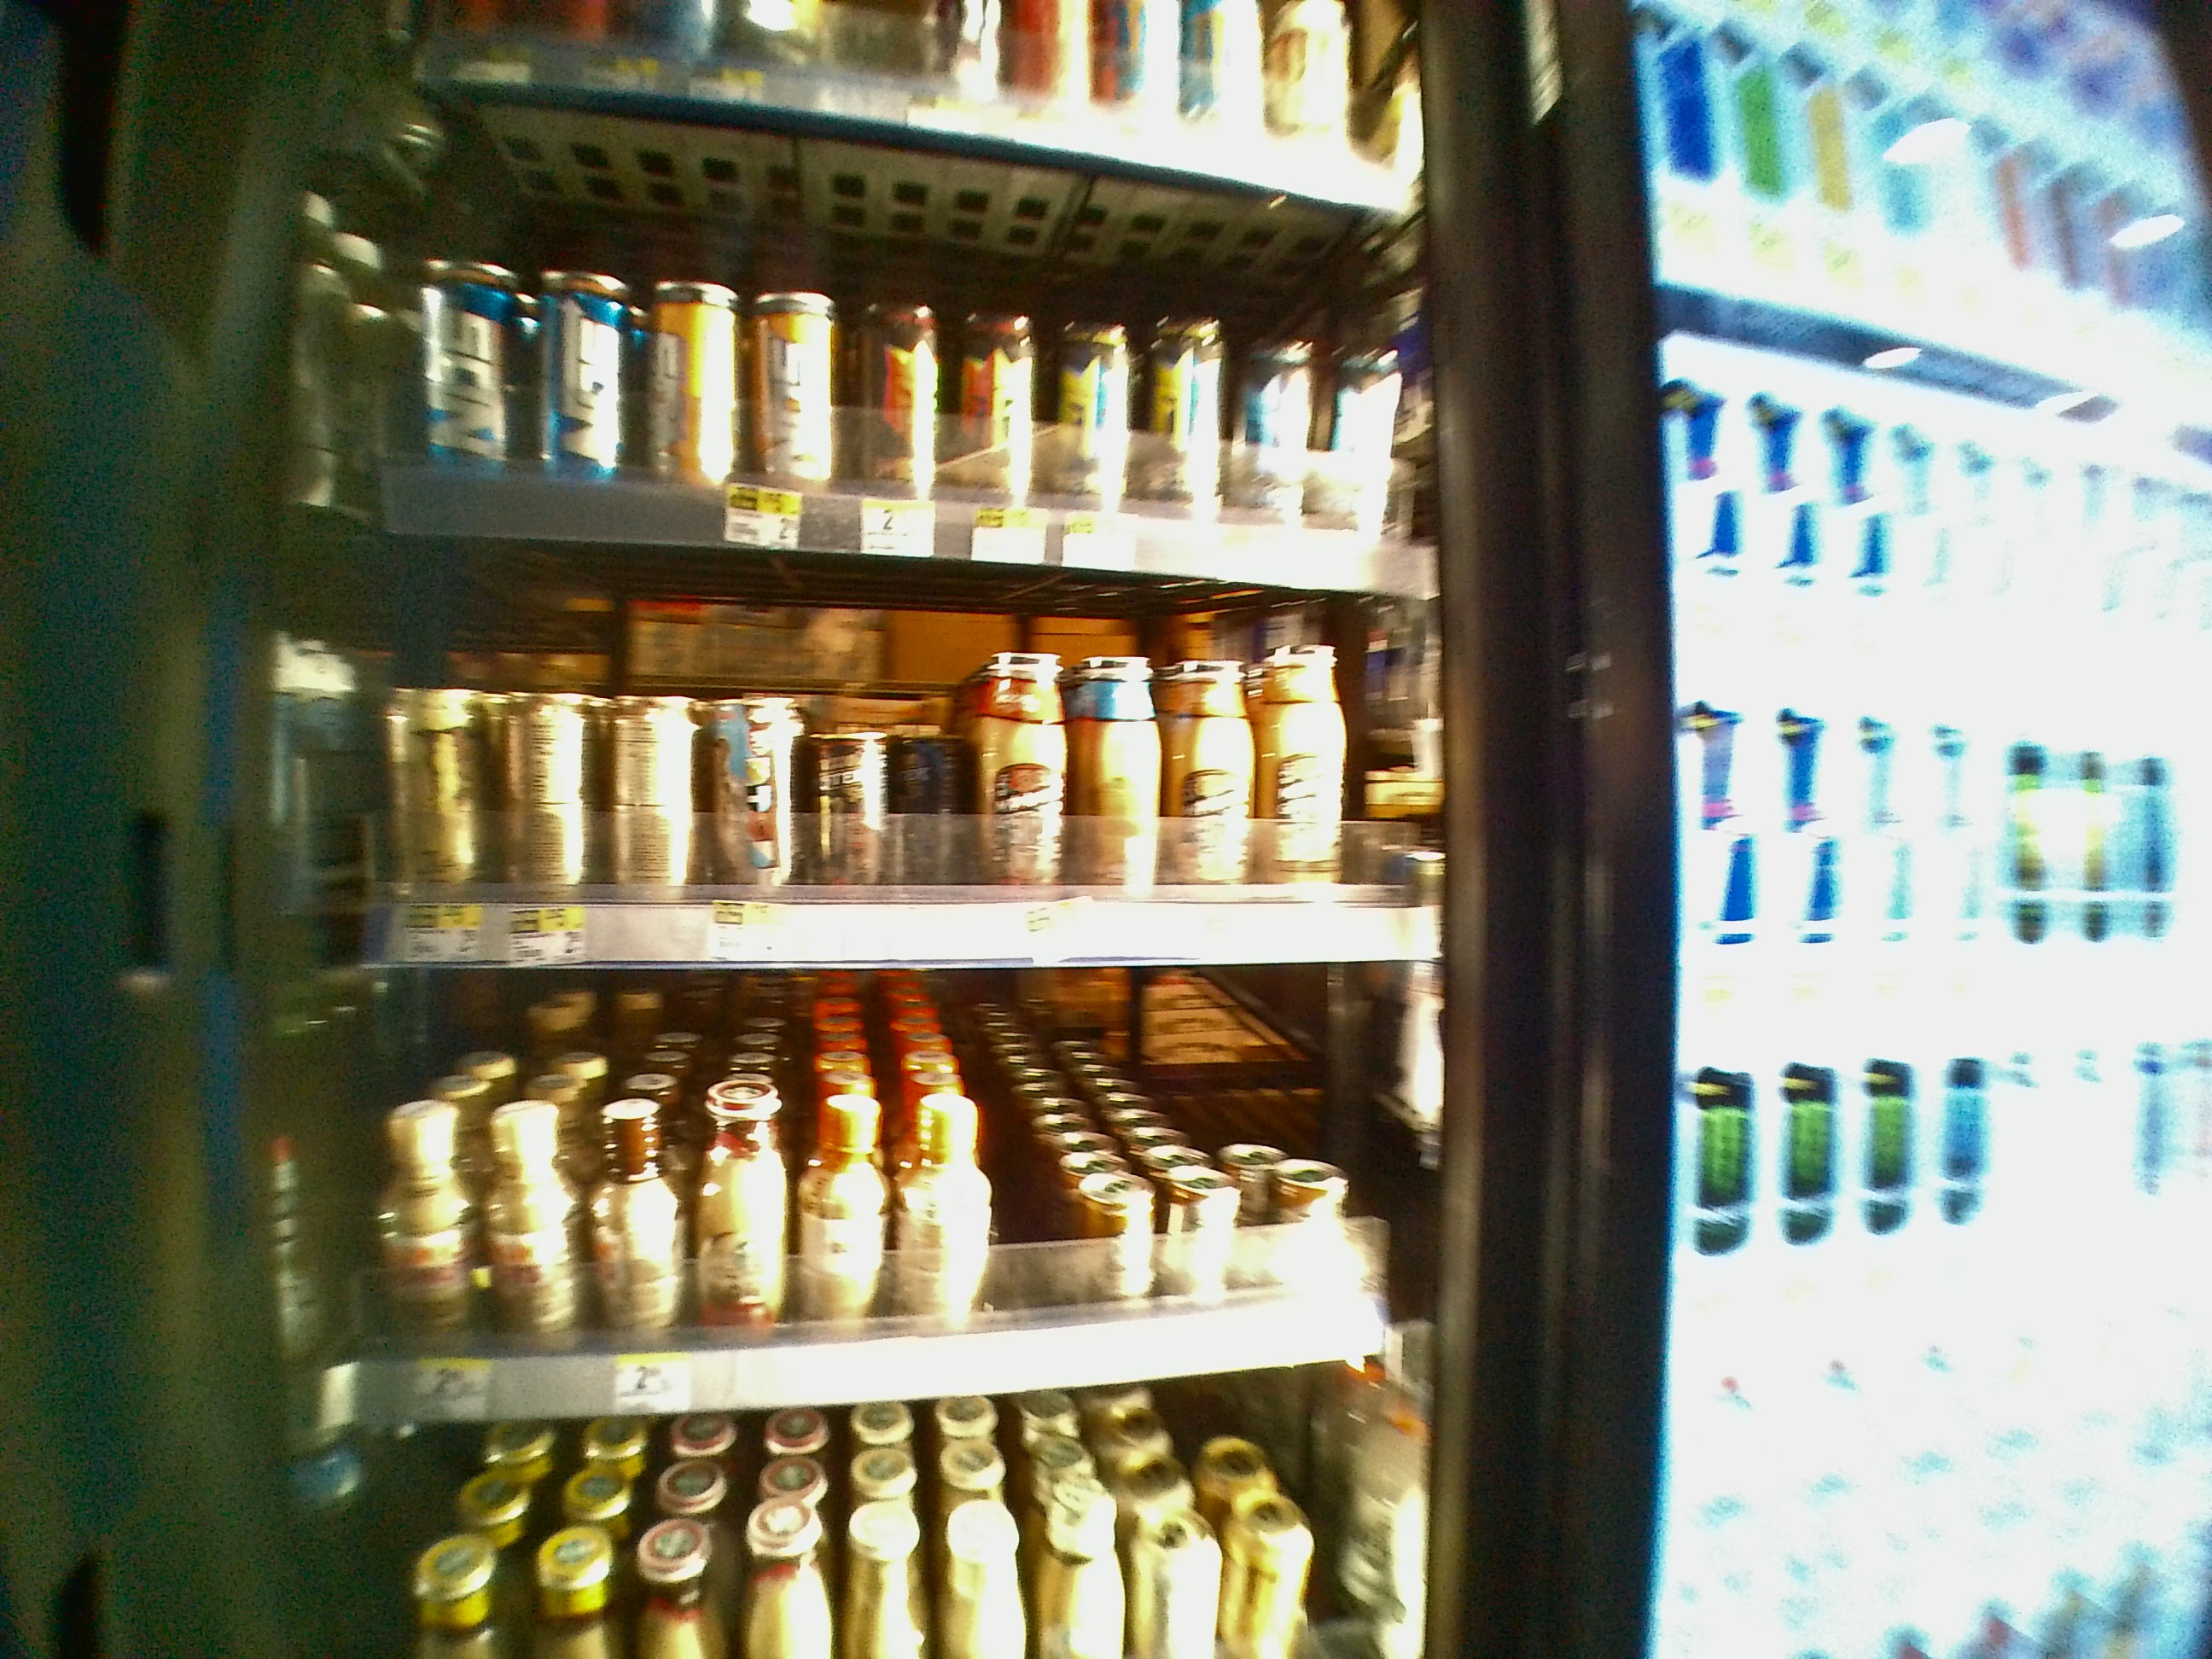shelf: (254, 549, 1453, 971), (270, 974, 1465, 1384)
